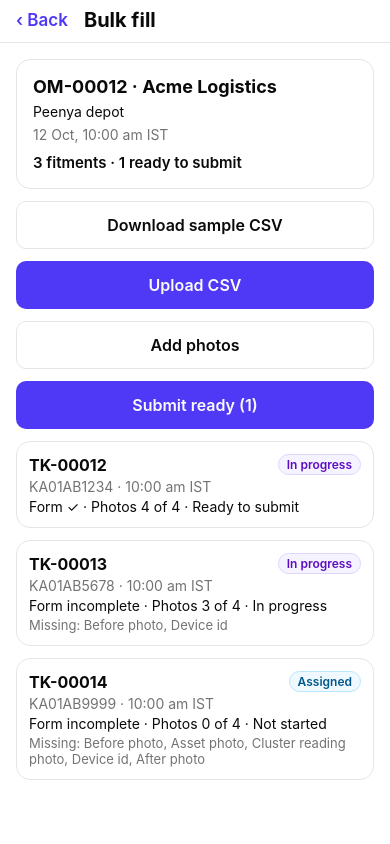
BulkFillScreen › Confirm is disabled with no valid rows
Click the button with test id "upload-csv": (195, 285) [16,261,374,309]
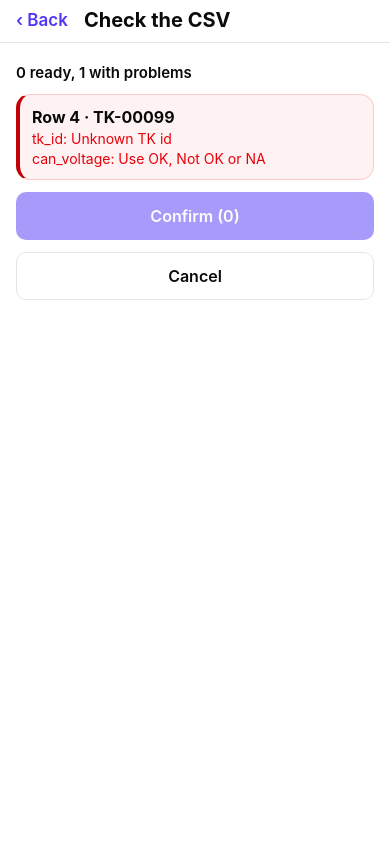
Check: the text "0 ready, 1 with problems" is shown, box [16,63,192,82]
Check: the button with test id "confirm" reads "Confirm (0)", box [16,192,374,240]
Check: the button with test id "confirm" is disabled, box [16,192,374,240]
